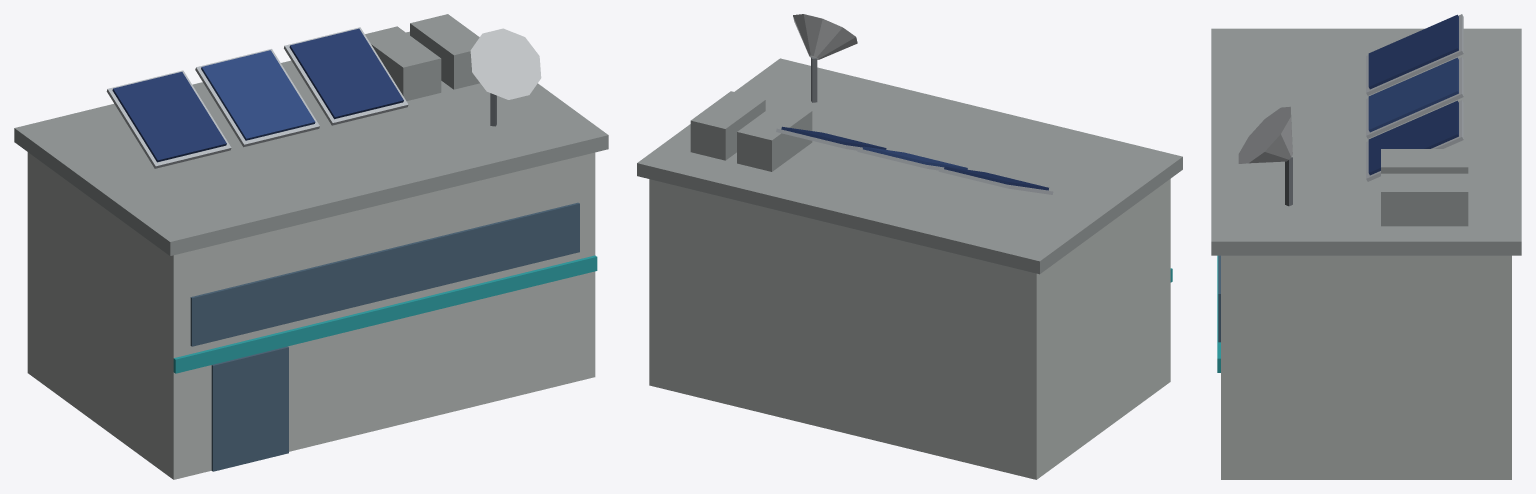
File: data_centre.glb
The picture shows the model from 3 angles, left to right: view 1: azimuth 30°, elevation 25°; view 2: azimuth 150°, elevation 25°; view 3: azimuth 270°, elevation 25°; orthographic projection. The views are drawn at different scales.
Visible parts, largest first — view 1: data_centre2; view 2: data_centre2; view 3: data_centre2.
Boxes of the visible parts, left/top/right/bottom form: data_centre2: left=14, top=14, right=608, bottom=479; data_centre2: left=637, top=14, right=1182, bottom=479; data_centre2: left=1211, top=14, right=1521, bottom=479.
Size of the model in its own units: 5.2 by 3.82 by 3.2.
